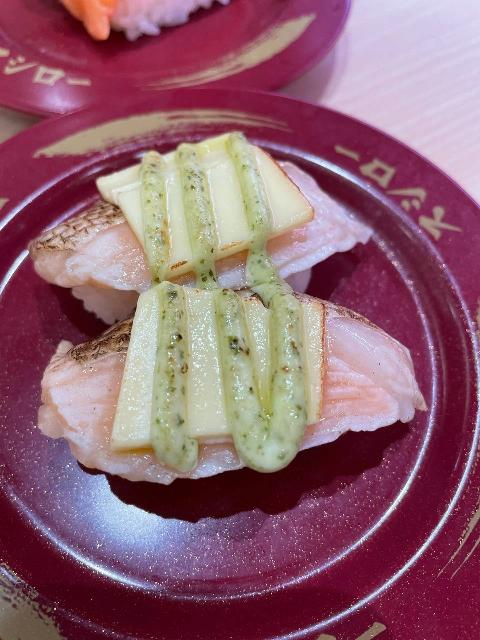janred: (1, 101, 480, 640), (1, 7, 369, 109)
